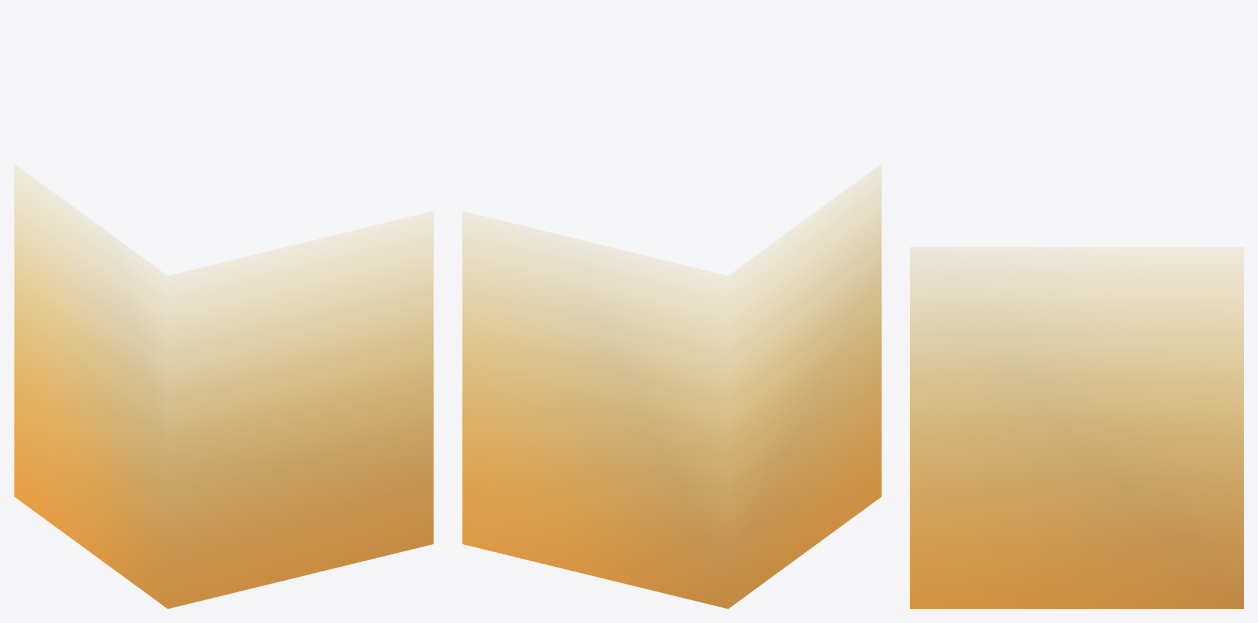
File: switch_light.glb
3 views of the same model, side by side, from view 1: azimuth 30°, elevation 25°; view 2: azimuth 150°, elevation 25°; view 3: azimuth 270°, elevation 25° (orthographic). The views are drawn at different scales.
Parts seen in each view (by area): view 1: light1, light2; view 2: light1, light2; view 3: light1, light2.
Part boxes in pixels (x1,y1,x2,y2): light1: [14, 308, 433, 608]; light2: [15, 341, 432, 608]; light1: [462, 308, 881, 608]; light2: [463, 341, 880, 608]; light1: [910, 403, 1243, 608]; light2: [910, 439, 1243, 608].
Size of the model in its own units: 3 by 4.5 by 3.
Materials: 1 (1 with a texture image).
